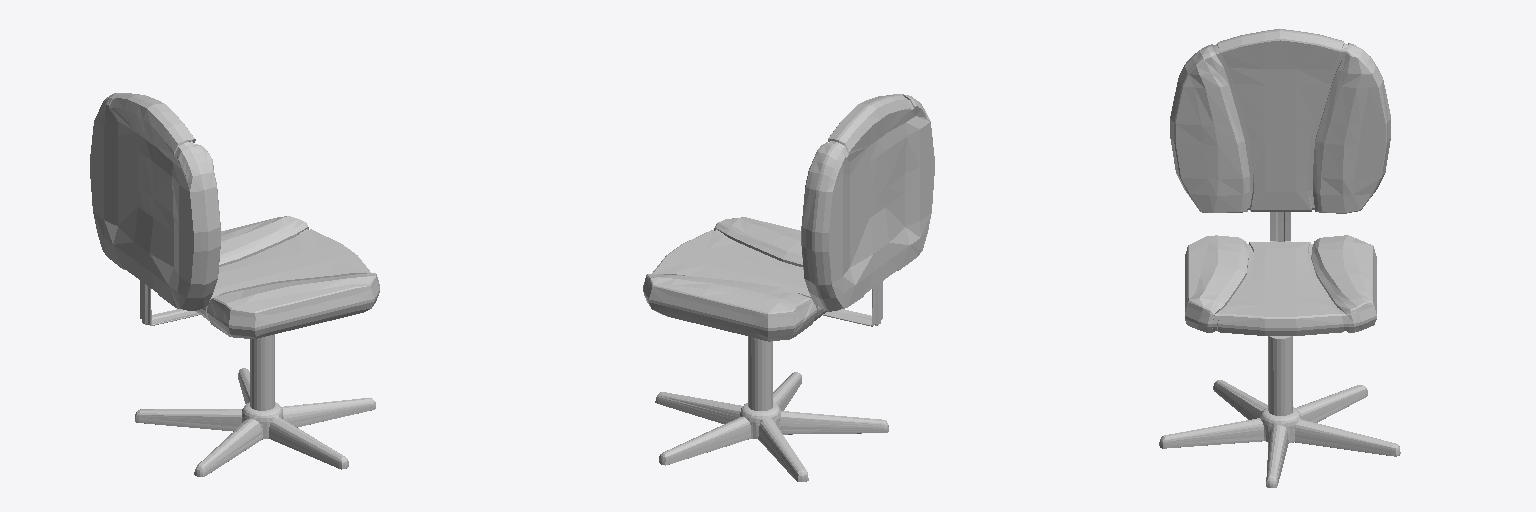
File: current_chair_placehold.obj
The picture shows the model from 3 angles: view 1: azimuth 30°, elevation 25°; view 2: azimuth 150°, elevation 25°; view 3: azimuth 270°, elevation 25°; orthographic projection.
Visible parts, largest first — view 1: pCube3; view 2: pCube3; view 3: pCube3.
Part boxes in pixels (bbox=[...]): pCube3: bbox=[90, 93, 379, 476]; pCube3: bbox=[643, 94, 934, 481]; pCube3: bbox=[1159, 29, 1400, 487].
Bounding box in the file's own units: 12.57 × 18.33 × 11.39.